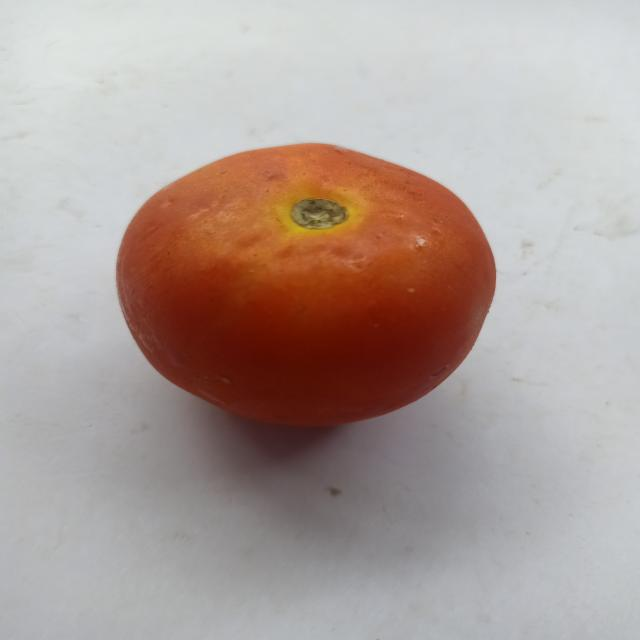Tomato: (99, 129, 514, 446)
